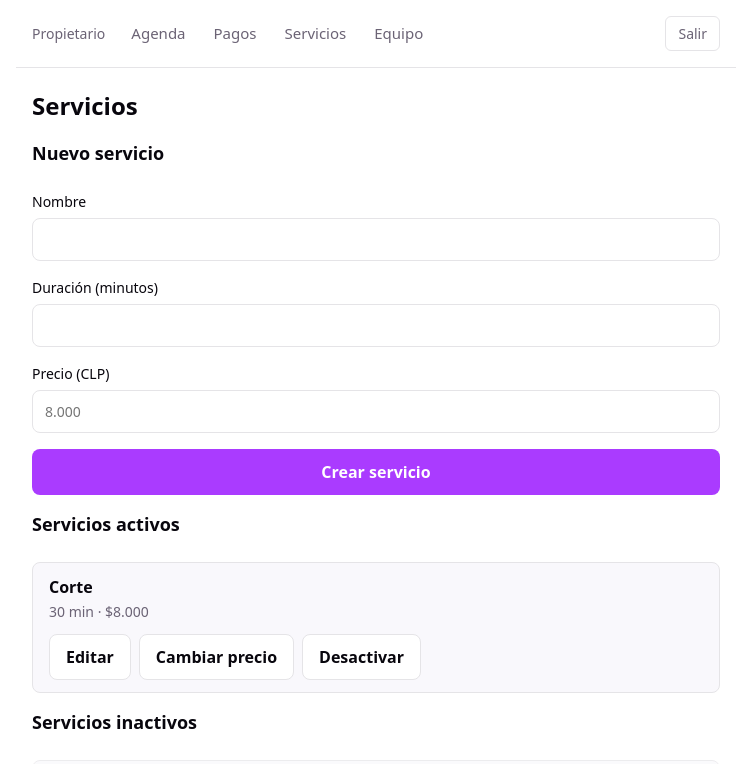
Scenario: RF-8: un error de la API se muestra en español y el formulario conserva lo escrito
Expected: the text "Corte" is shown, x1=49 y1=576 x2=93 y2=598
Step 1. Type "Tinte" into the field labelled "Nombre" → x=376, y=240, box x1=32 y1=218 x2=720 y2=261
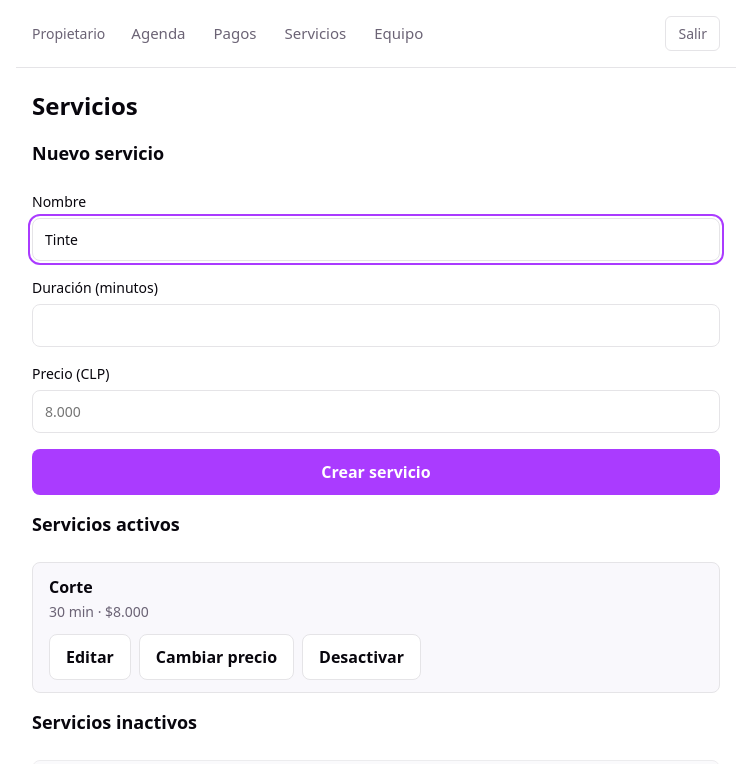
Step 2. Type "90" into the field labelled "Duración (minutos)" → x=376, y=326, box x1=32 y1=304 x2=720 y2=347
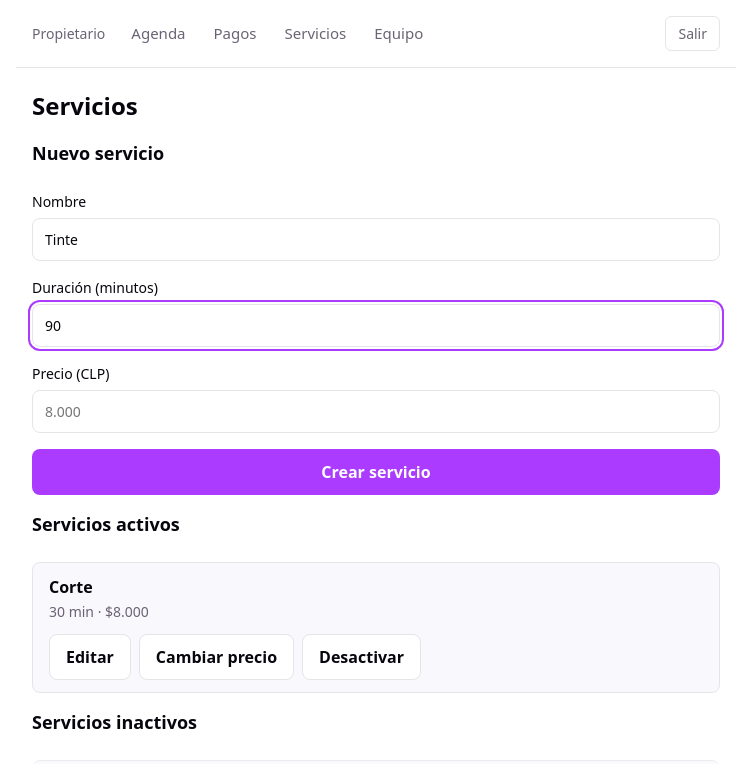
Step 3. Type "25000" into the field labelled "Precio (CLP)" → x=376, y=412, box x1=32 y1=390 x2=720 y2=433
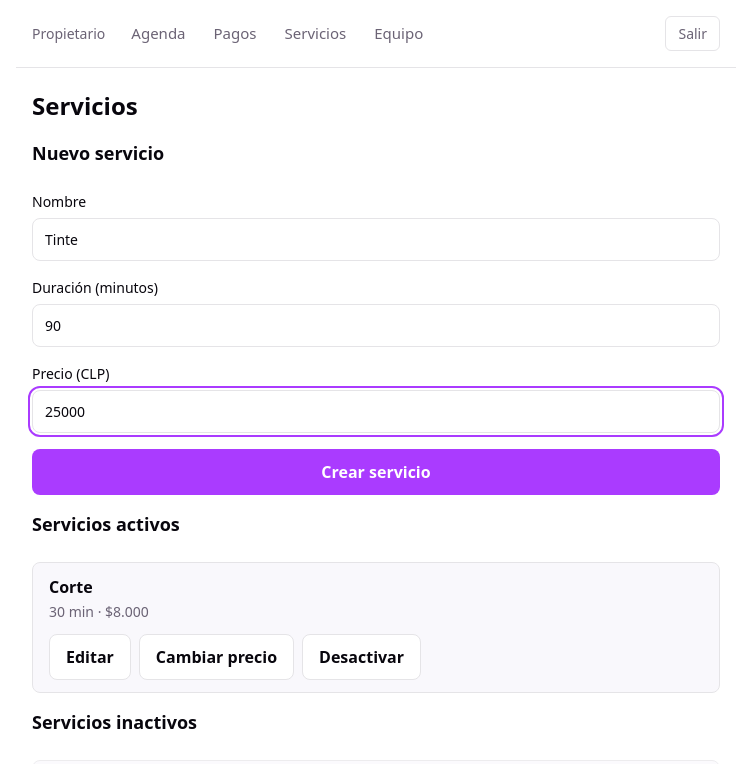
Step 4. Click the button "Crear servicio" → x=376, y=472, box x1=32 y1=449 x2=720 y2=495
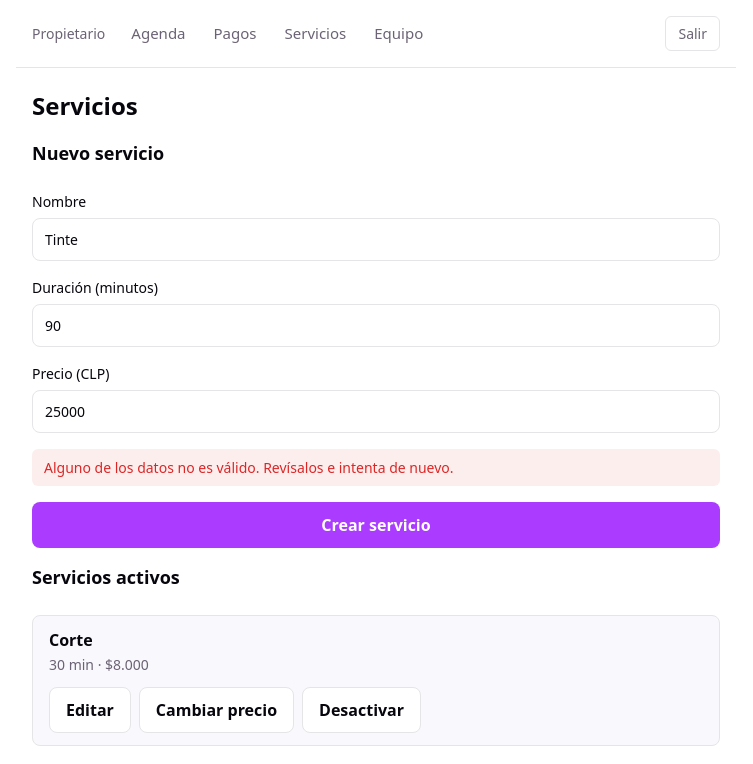
Result: the message shows "no es válido" at x1=44 y1=458 x2=454 y2=477
